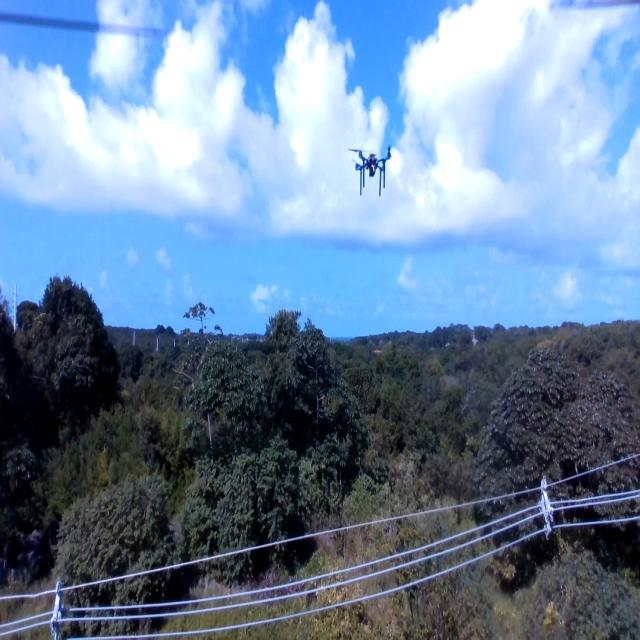-uav-: (345, 136, 397, 200)
